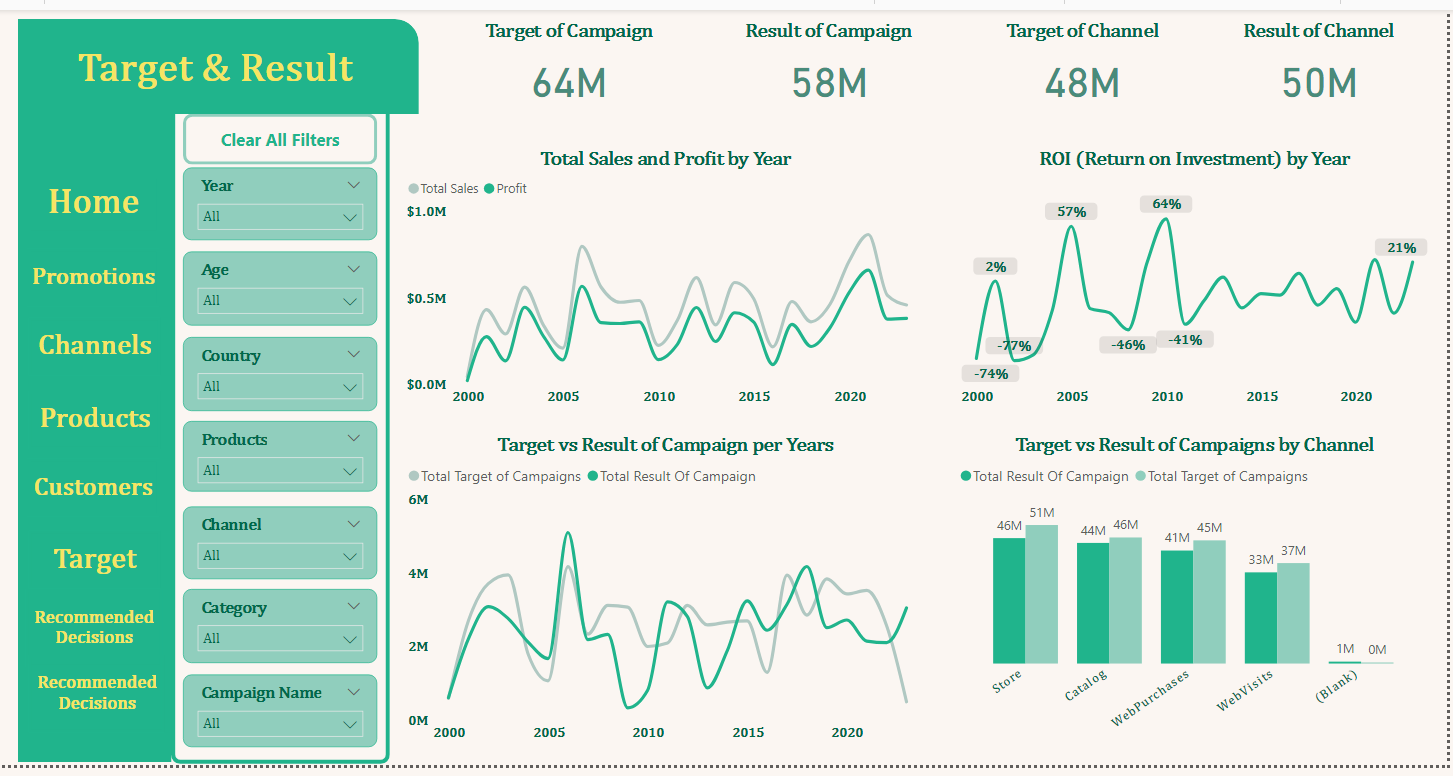

Layout of this report page (visuals, bound fields, positions):
{"tool":"powerbi","page":{"name":"Target & Result","canvas":[1380,720],"ordinal":5},"visuals":[{"type":"shape","box":[163.4,85.9,208.9,633.6],"z":0},{"type":"slicer","fields":{"Values":["Dimdate.date.Variation.Date Hierarchy.Year"]},"box":[175.2,150,185.3,69.1],"z":1000},{"type":"slicer","fields":{"Values":["Customer.Age"]},"box":[175.2,230.8,185.3,70.8],"z":2000},{"type":"slicer","fields":{"Values":["Customer.country"]},"box":[175.2,311.7,185.3,70.8],"z":3000},{"type":"slicer","fields":{"Values":["Products.Products"]},"box":[175.2,392.6,185.3,67.4],"z":4000},{"type":"slicer","fields":{"Values":["place.name"]},"box":[175.2,473.5,185.3,69.1],"z":5000},{"type":"slicer","fields":{"Values":["Products.Category"]},"box":[175.2,552.7,185.3,70.8],"z":6000},{"type":"slicer","fields":{"Values":["promotion.name"]},"box":[175.2,633.6,185.3,69.1],"z":7000},{"type":"actionButton","box":[175.2,99.4,185.3,48.9],"z":8000},{"type":"card","title":"Target of Campaign","fields":{"Values":["DAX_Measures.Total Of Target Campaigns"]},"box":[428,10.1,229.2,91],"z":9000},{"type":"card","title":"Result of Campaign","fields":{"Values":["DAX_Measures.Total Of Result Of Campaign"]},"box":[676.2,10.1,229.2,91],"z":10000},{"type":"lineChart","fields":{"Y":["DAX_Measures.ROI (Return on Investment)"],"Category":["Dimdate.date.Variation.Date Hierarchy.Year"]},"box":[909.9,131.4,458.3,251.1],"z":11000},{"type":"card","title":"Target of Channel","fields":{"Values":["DAX_Measures.Total Of Target Places"]},"box":[924.5,10.1,215.7,91],"z":12000},{"type":"card","title":"Result of Channel","fields":{"Values":["DAX_Measures.Total Of Result Of Place"]},"box":[1159.3,10.1,197.1,91],"z":13000},{"type":"lineChart","fields":{"Y":["DAX_Measures.Total Sales","DAX_Measures.Profit"],"Category":["promotion.Target date.Variation.Date Hierarchy.Year"]},"box":[384.2,131.4,502.1,251.1],"z":14000},{"type":"clusteredColumnChart","title":"Target vs Result of Campaigns by Channel","fields":{"Y":["DAX_Measures.Total Of Result Of Campaign","DAX_Measures.Total Of Target Campaigns"],"Category":["place.name"]},"box":[909.9,404.4,458.3,298.2],"z":15000},{"type":"lineChart","title":"Target vs Result  of Campaign per Years","fields":{"Category":["promotion.Target date.Variation.Date Hierarchy.Year","promotion.Target date.Variation.Date Hierarchy.Quarter","promotion.Target date.Variation.Date Hierarchy.Month","promotion.Target date.Variation.Date Hierarchy.Day"],"Y":["DAX_Measures.Total Of Target Campaigns","DAX_Measures.Total Result Of Campaign"]},"box":[384.2,404.4,502.1,298.2],"z":16000},{"type":"shape","box":[16.8,85.9,146.6,631.9],"z":17000},{"type":"shape","box":[16.8,8.4,382.5,91],"z":18000},{"type":"actionButton","box":[25.8,156.8,126.4,55.6],"z":19000},{"type":"actionButton","box":[25.8,227.5,126.4,55.6],"z":20000},{"type":"actionButton","box":[27.4,293.2,126.4,55.6],"z":21000},{"type":"actionButton","box":[27.4,364,126.4,55.6],"z":22000},{"type":"actionButton","box":[25.8,428,126.4,55.6],"z":23000},{"type":"actionButton","box":[27.4,497.1,126.4,55.6],"z":24000},{"type":"actionButton","box":[25,552.4,130.5,75],"z":25000},{"type":"actionButton","box":[27.2,615.4,130.3,73.9],"z":26000}]}

Visuals, with their boxes in screenshot pixels (x1, y1, x2, y2), scaled from the page's 1380x720 canvas onto the 1453x776 screenshot:
shape: BBox(172, 93, 392, 775)
slicer - Dimdate.date.Variation.Date Hierarchy.Year: BBox(184, 162, 380, 236)
slicer - Customer.Age: BBox(184, 249, 380, 325)
slicer - Customer.country: BBox(184, 336, 380, 412)
slicer - Products.Products: BBox(184, 423, 380, 496)
slicer - place.name: BBox(184, 510, 380, 585)
slicer - Products.Category: BBox(184, 596, 380, 672)
slicer - promotion.name: BBox(184, 683, 380, 757)
actionButton: BBox(184, 107, 380, 160)
"Target of Campaign" card: BBox(451, 11, 692, 109)
"Result of Campaign" card: BBox(712, 11, 953, 109)
lineChart - DAX_Measures.ROI (Return on Investment) x Dimdate.date.Variation.Date Hierarchy.Year: BBox(958, 142, 1441, 412)
"Target of Channel" card: BBox(973, 11, 1201, 109)
"Result of Channel" card: BBox(1221, 11, 1428, 109)
lineChart - DAX_Measures.Total Sales x DAX_Measures.Profit: BBox(405, 142, 933, 412)
"Target vs Result of Campaigns by Channel" clusteredColumnChart: BBox(958, 436, 1441, 757)
"Target vs Result  of Campaign per Years" lineChart: BBox(405, 436, 933, 757)
shape: BBox(18, 93, 172, 774)
shape: BBox(18, 9, 420, 107)
actionButton: BBox(27, 169, 160, 229)
actionButton: BBox(27, 245, 160, 305)
actionButton: BBox(29, 316, 162, 376)
actionButton: BBox(29, 392, 162, 452)
actionButton: BBox(27, 461, 160, 521)
actionButton: BBox(29, 536, 162, 596)
actionButton: BBox(26, 595, 164, 676)
actionButton: BBox(29, 663, 166, 743)
